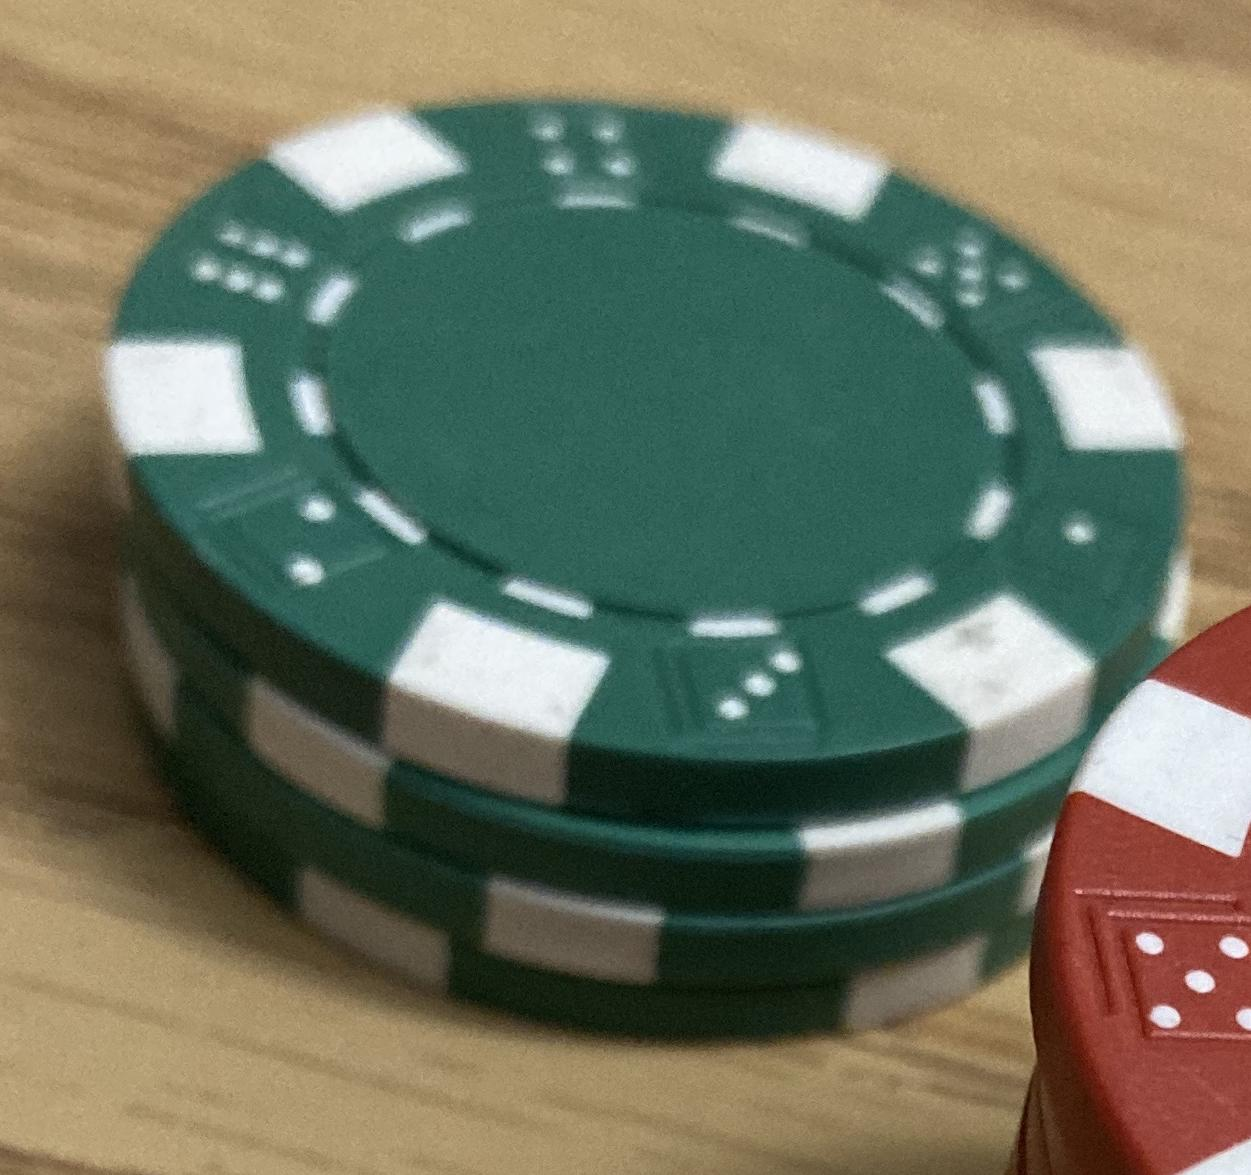Chip: (1, 1, 1251, 1175)
